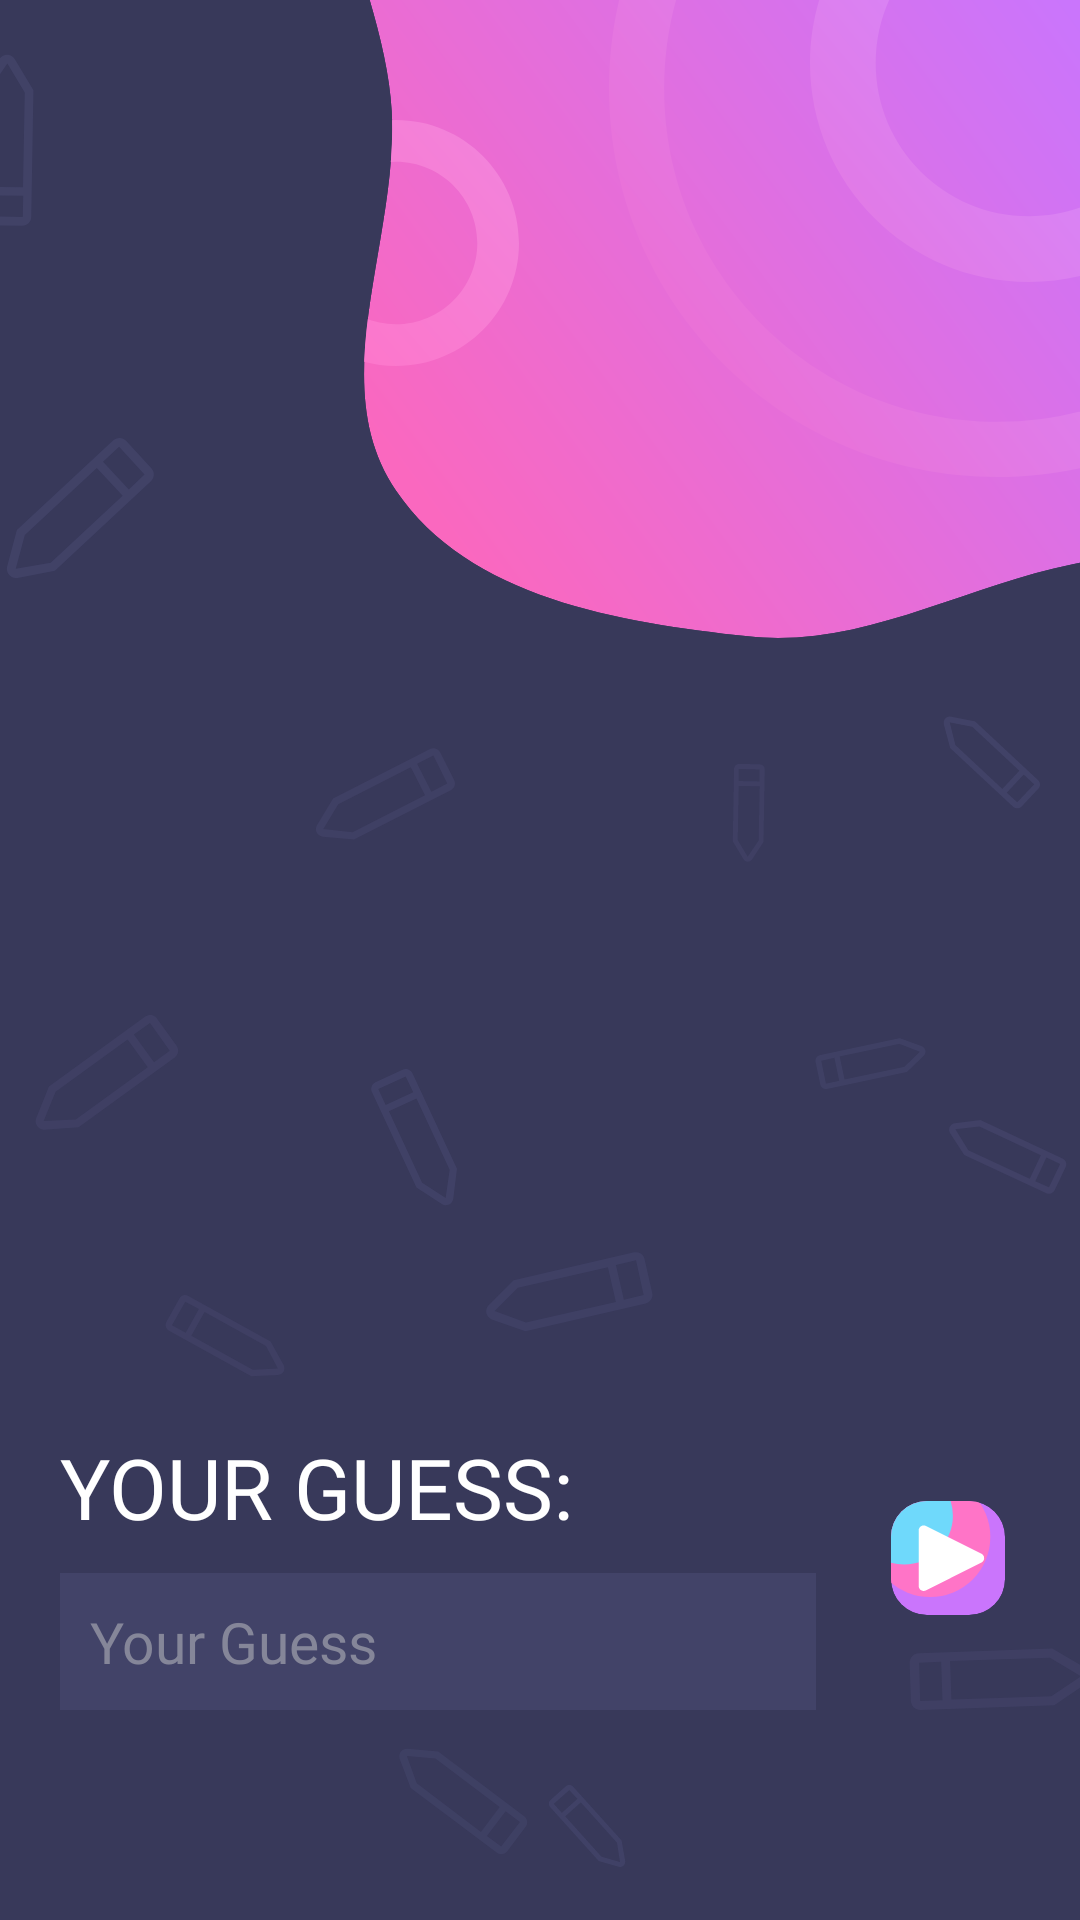

Point at icon controls on the screen. Image size 1080×1920, points as (x=x, y=y).
playbutton: (x=948, y=1558)
